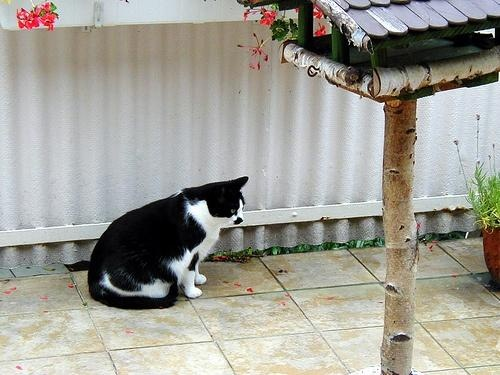cat: (88, 176, 250, 312)
pottedplant: (454, 115, 500, 291)
